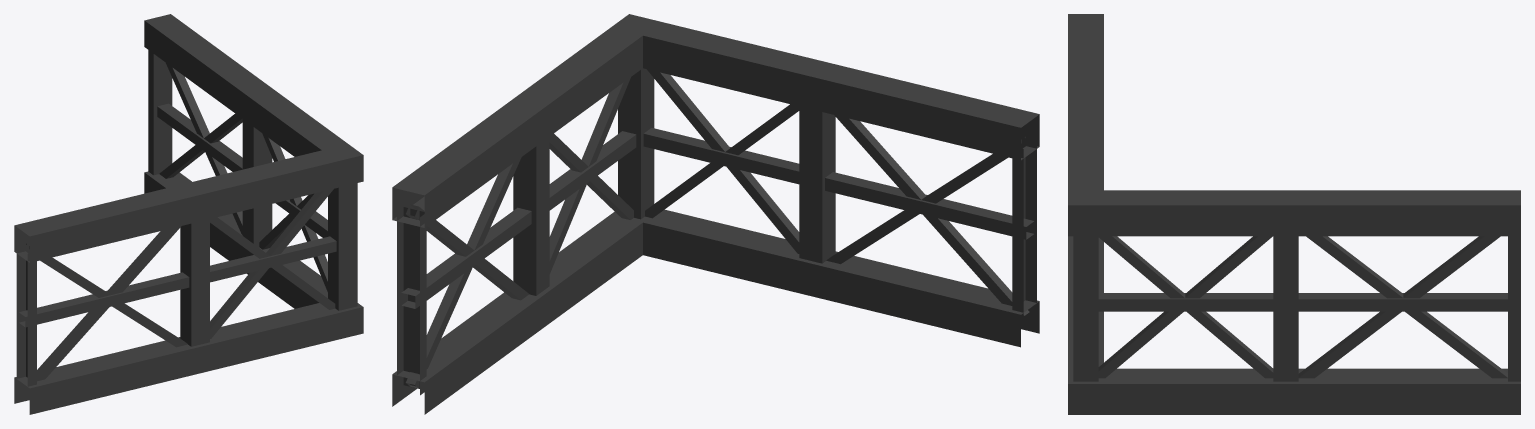
Rendered from tile_platform_013.fbx.
3 views of the same model, side by side, from view 1: azimuth 30°, elevation 25°; view 2: azimuth 150°, elevation 25°; view 3: azimuth 270°, elevation 25° (orthographic). The views are drawn at different scales.
Parts seen in each view (by area): view 1: tile_platform_013; view 2: tile_platform_013; view 3: tile_platform_013.
Boxes of the visible parts, x1,y1,x2,y2 form: tile_platform_013: (14, 14, 363, 414); tile_platform_013: (392, 14, 1039, 414); tile_platform_013: (1068, 14, 1520, 414).
Size of the model in its own units: 386 by 386 by 197.
